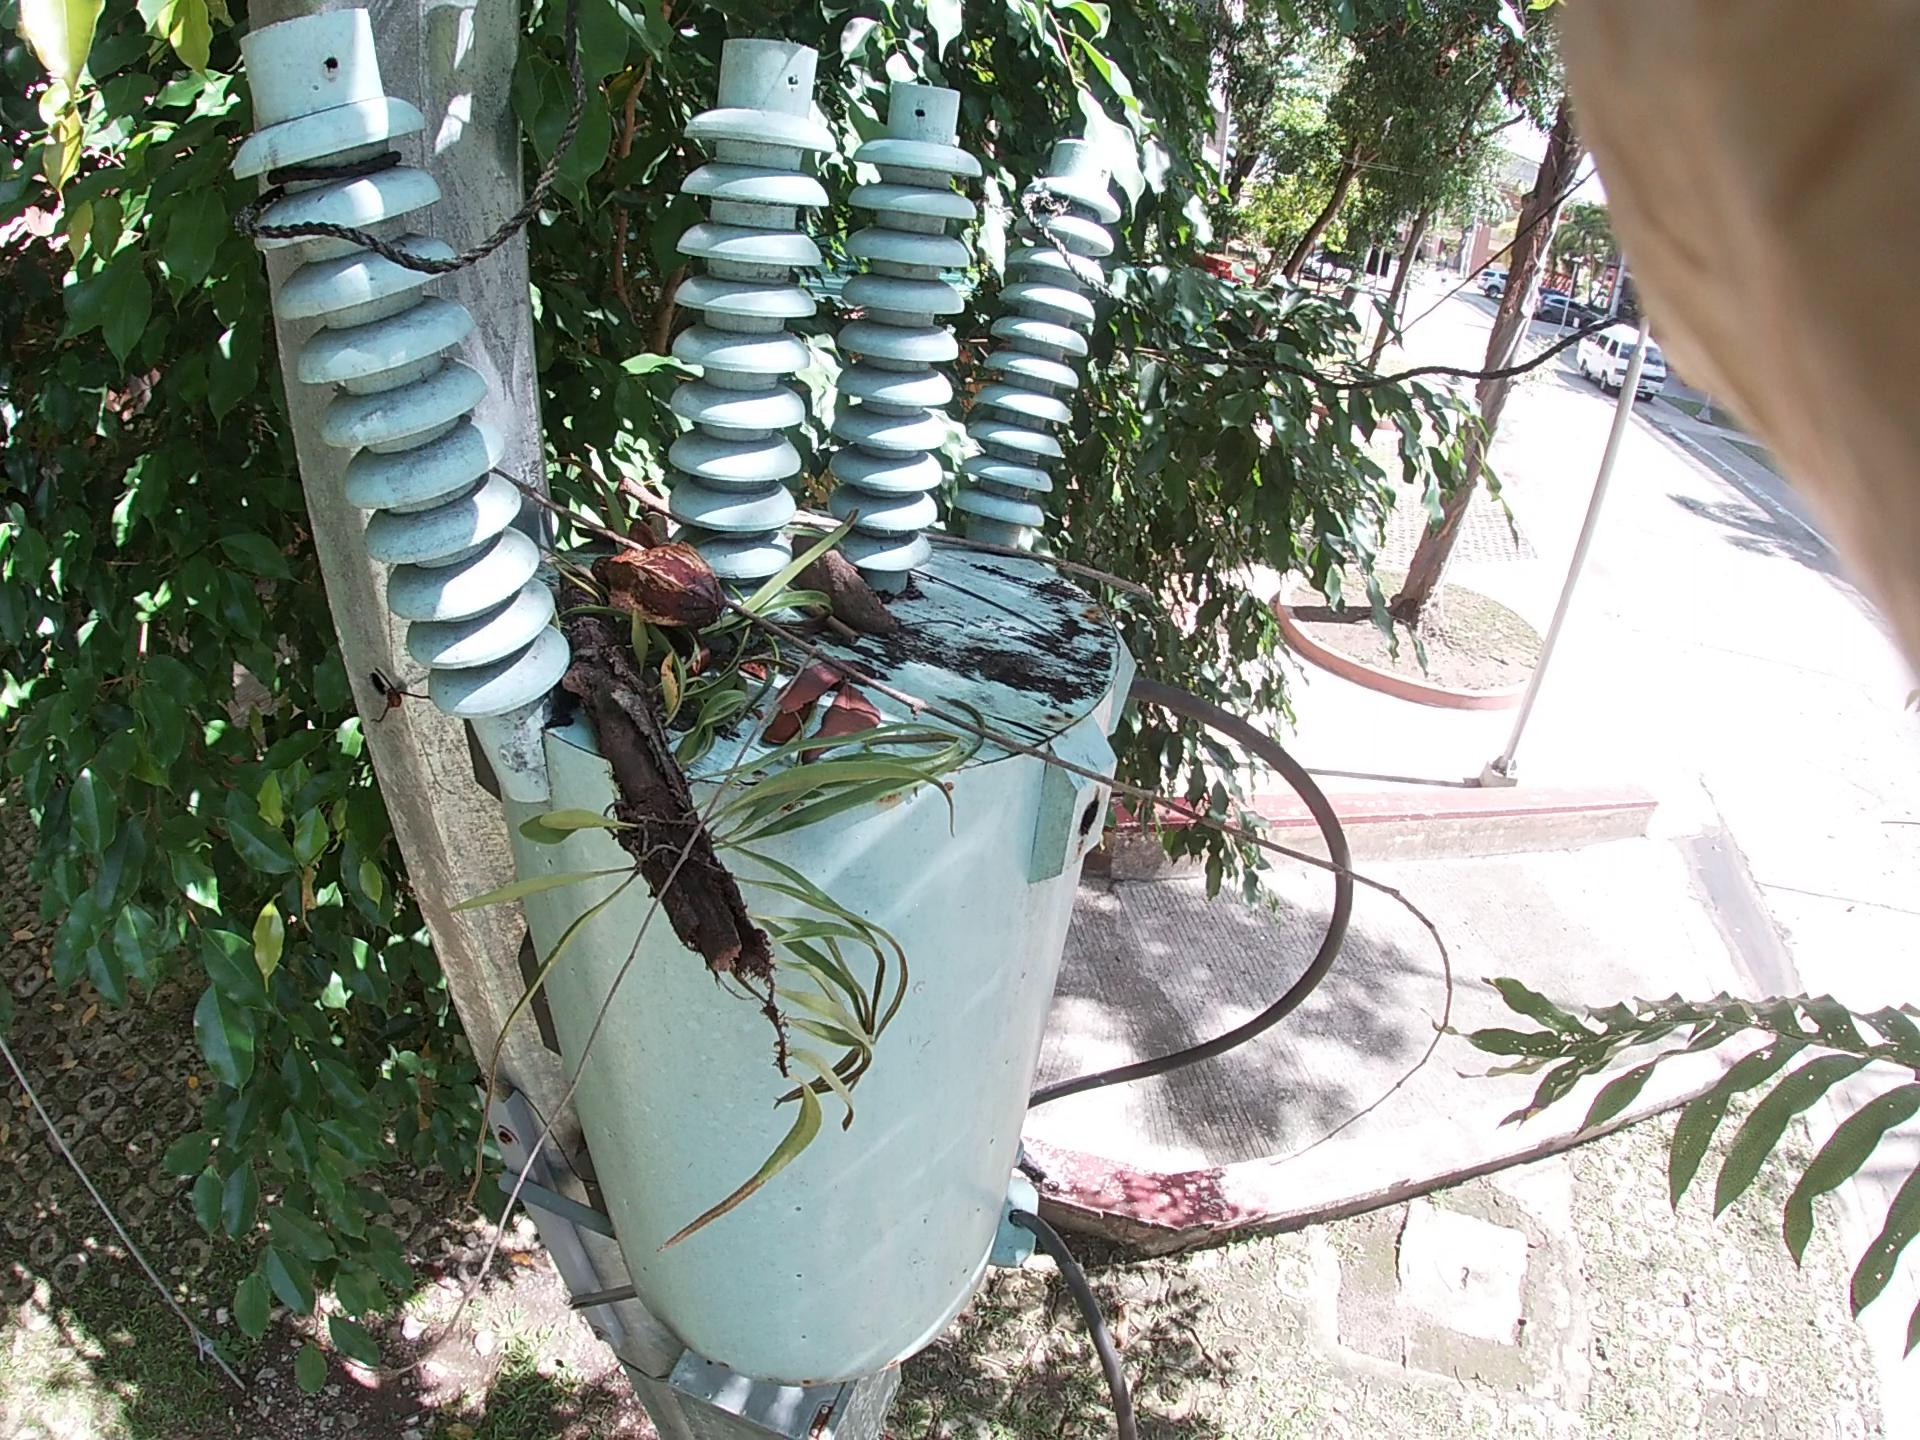branch with leaves: (543, 504, 940, 1010)
leaf: (479, 15, 1323, 446)
mahogany fruit: (785, 492, 949, 700), (561, 523, 745, 669)
tree branch: (508, 461, 1401, 923), (925, 517, 1185, 682), (773, 573, 890, 655)
